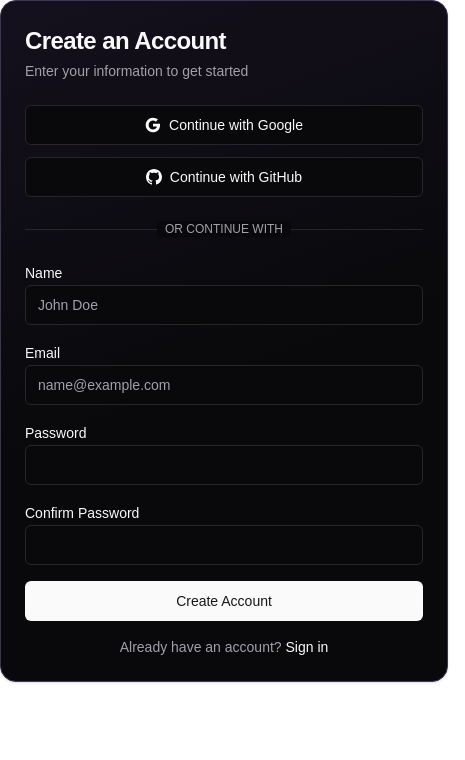
Test case: SignupForm › shows validation error for short name
The image size is (465, 760).
Type "A" into the field labelled "Name". click: (224, 305)
box: [25,285,423,325]
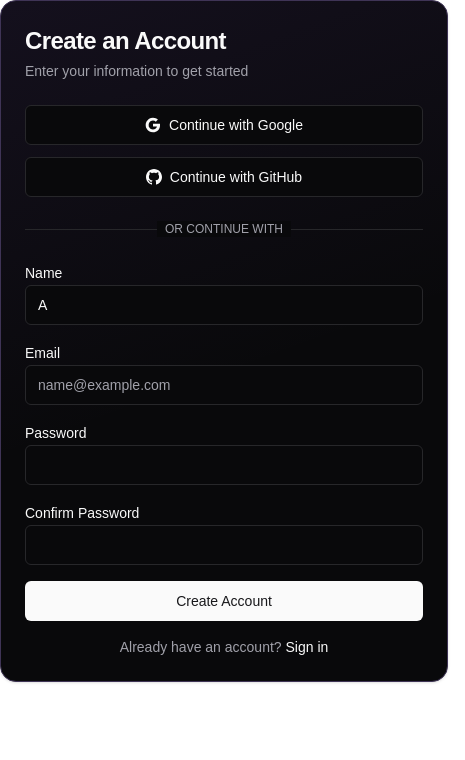
Type "test@test.com" into the field labelled "Email". click: (224, 385)
box: [25,365,423,405]
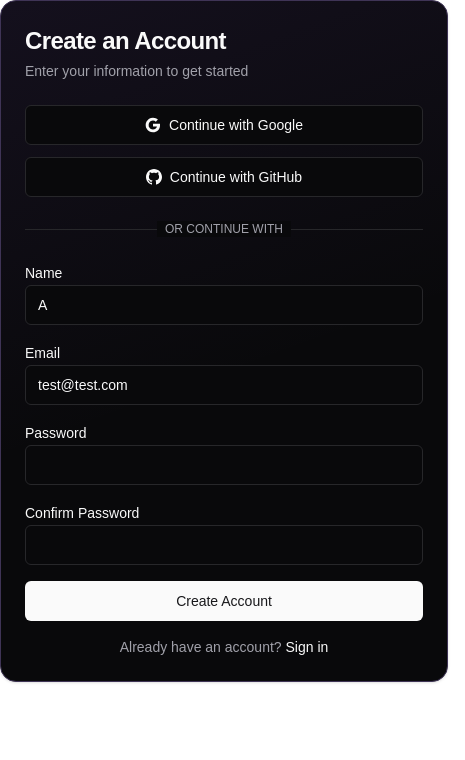
Type "password123" into the password field labelled "Password". click: (224, 465)
box: [25,445,423,485]
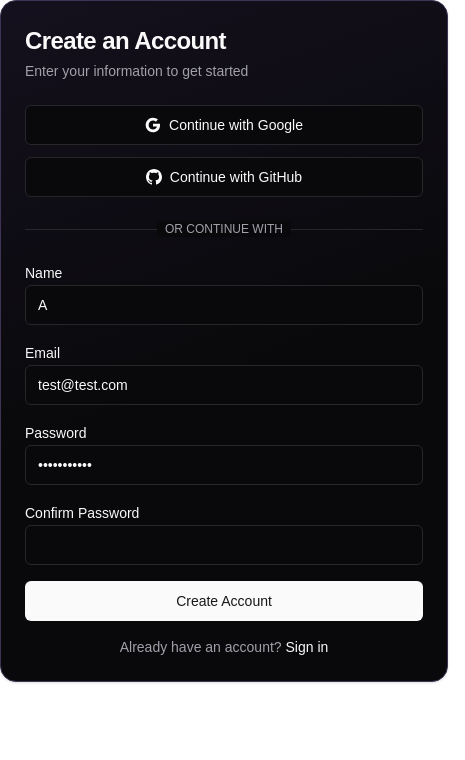
Type "password123" into the password field labelled "Confirm Password". click: (224, 545)
box: [25,525,423,565]
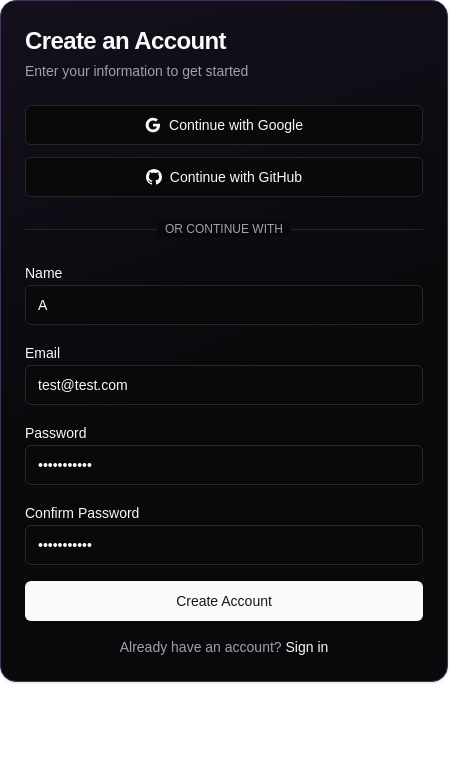
Click the button "Create Account". click: (224, 601)
box: [25,581,423,621]
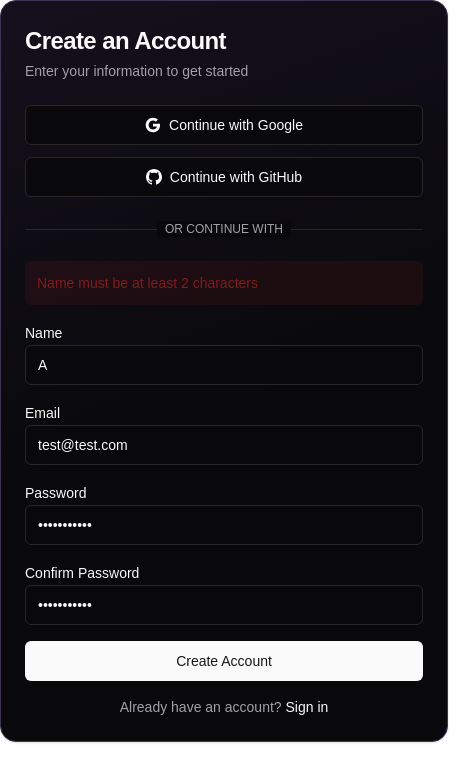
Expected: the text "Name must be at least 2 characters" is shown, [25,261,423,305]
